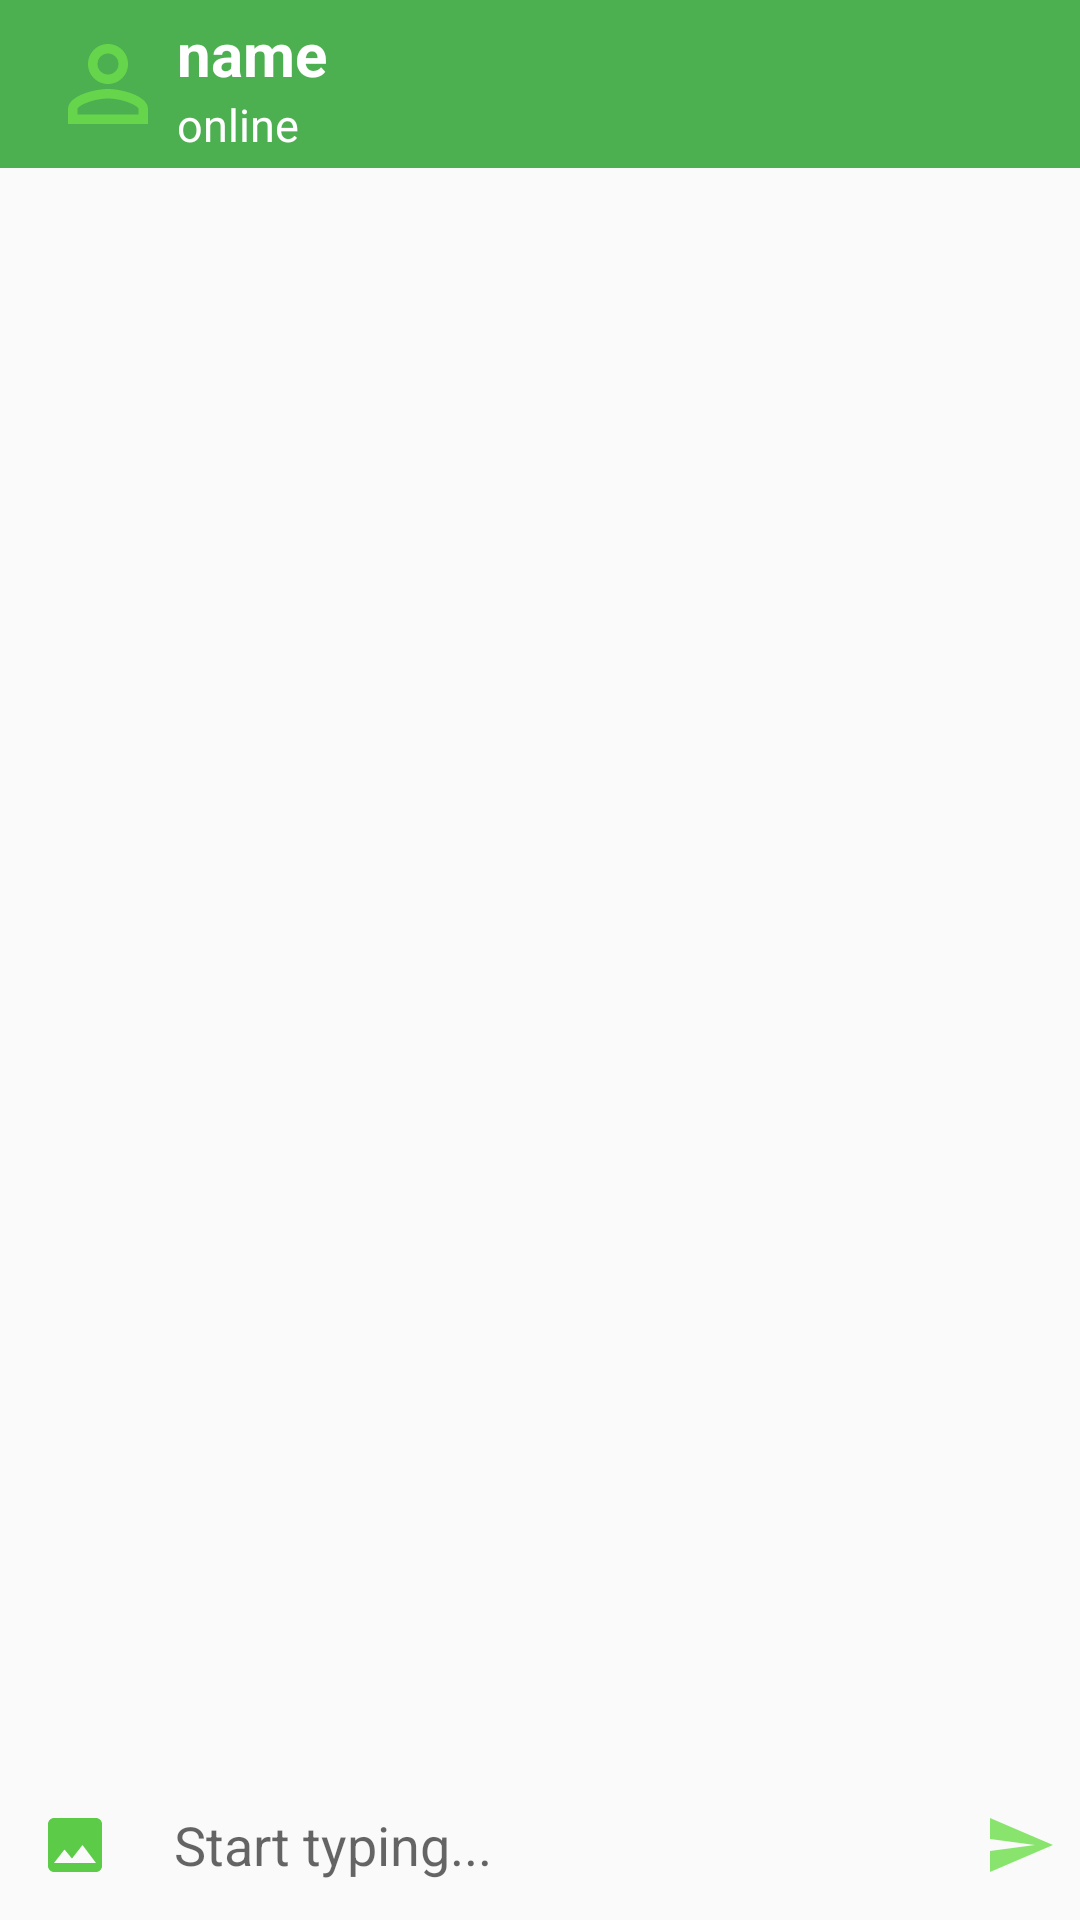

Icons on this 1080x1920 Android screen, each with the point to tap as [x,y]:
send: [1021,1845]
